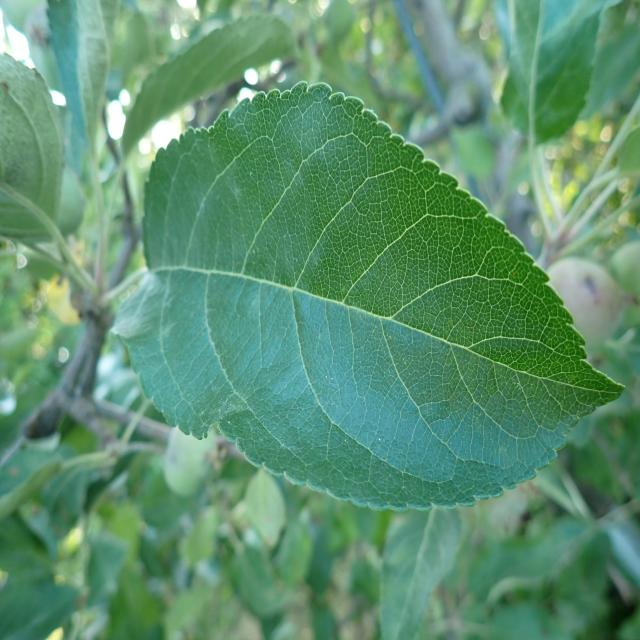healthy: (109, 80, 626, 512), (492, 0, 610, 144), (0, 52, 65, 243)
